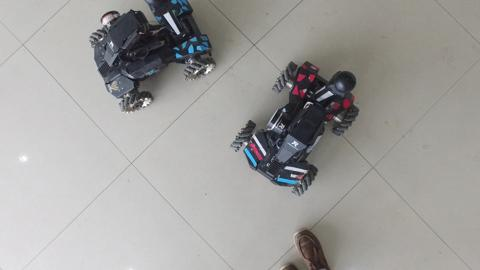chariot: (228, 51, 362, 201), (85, 1, 221, 125)
